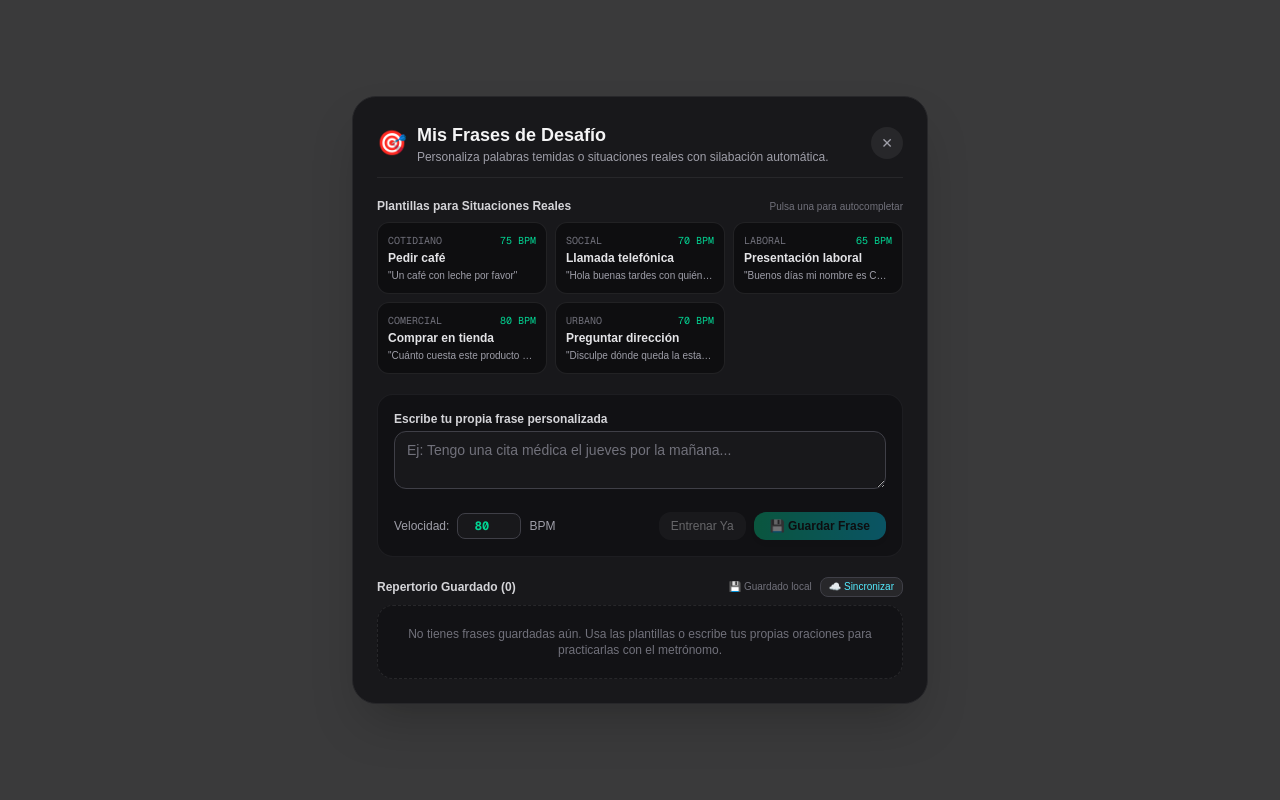
Test: CustomPhraseTrainer › permite aplicar una plantilla rápida y silabear en tiempo real
The image size is (1280, 800).
Click the text "Pedir café".
click(417, 258)  # box [388,251,445,265]
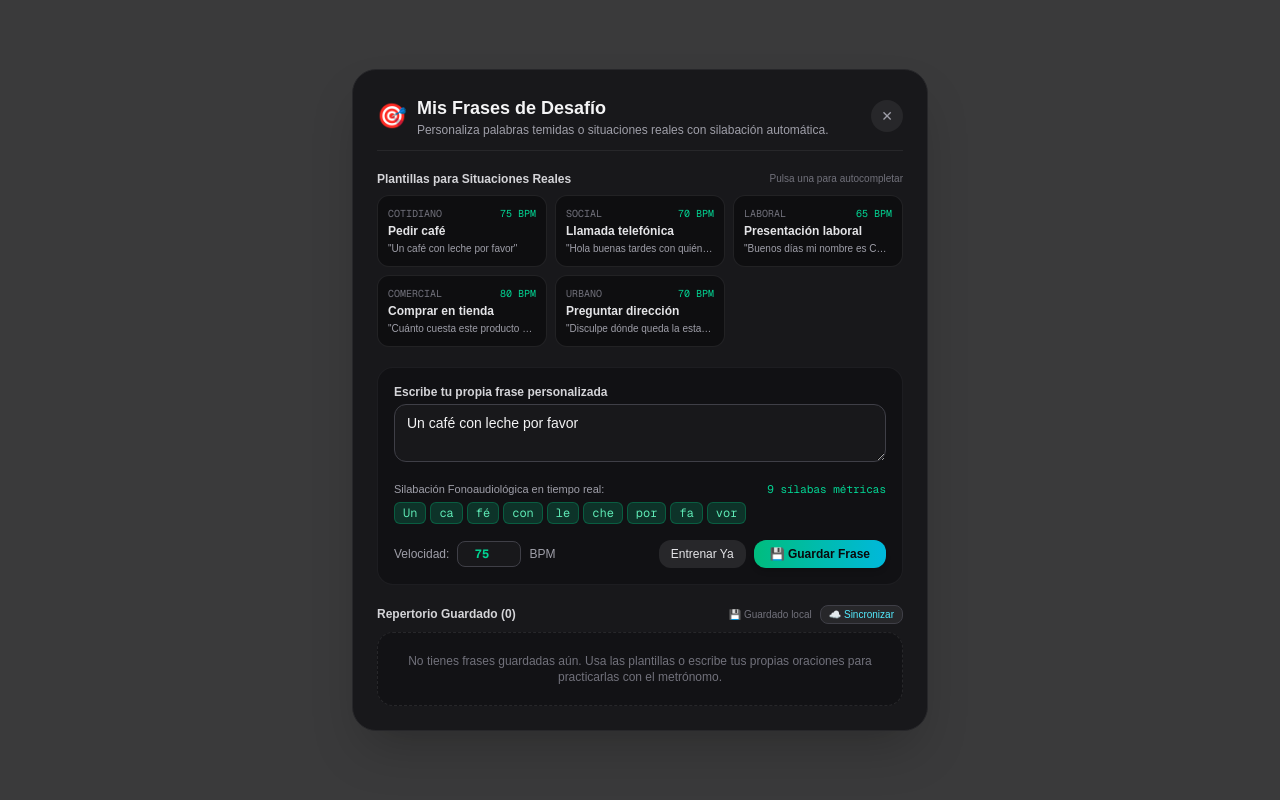
Now the text box labelled "Escribe tu propia frase personalizada" holds "Un café con leche por favor", box [394,404,886,462]
Now the text "Silabación Fonoaudiológica en tiempo real:" is shown, box [394,481,604,498]
